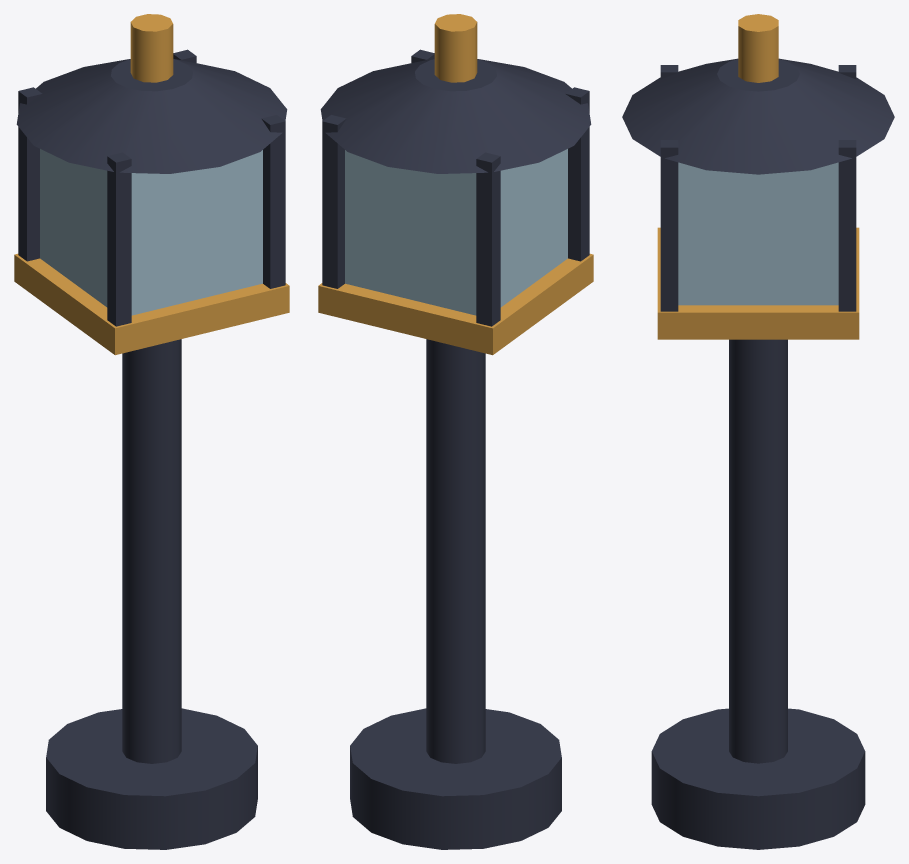
File: furniture_lamp.glb
The picture shows the model from 3 angles, left to right: view 1: azimuth 30°, elevation 25°; view 2: azimuth 150°, elevation 25°; view 3: azimuth 270°, elevation 25°; orthographic projection.
Visible parts, largest first — view 1: furniture_lamp ink, furniture_lamp glass, furniture_lamp ochre; view 2: furniture_lamp ink, furniture_lamp glass, furniture_lamp ochre; view 3: furniture_lamp ink, furniture_lamp glass, furniture_lamp ochre.
Boxes of the visible parts, left/top/right/bottom form: furniture_lamp ink: left=16, top=49, right=287, bottom=849; furniture_lamp glass: left=40, top=149, right=262, bottom=315; furniture_lamp ochre: left=14, top=14, right=289, bottom=355; furniture_lamp ink: left=320, top=49, right=591, bottom=849; furniture_lamp glass: left=345, top=149, right=567, bottom=315; furniture_lamp ochre: left=318, top=14, right=593, bottom=355; furniture_lamp ink: left=622, top=58, right=894, bottom=849; furniture_lamp glass: left=678, top=162, right=838, bottom=305; furniture_lamp ochre: left=657, top=14, right=859, bottom=339.
Bounding box in the file's own units: 0.23 × 0.7275 × 0.23.
